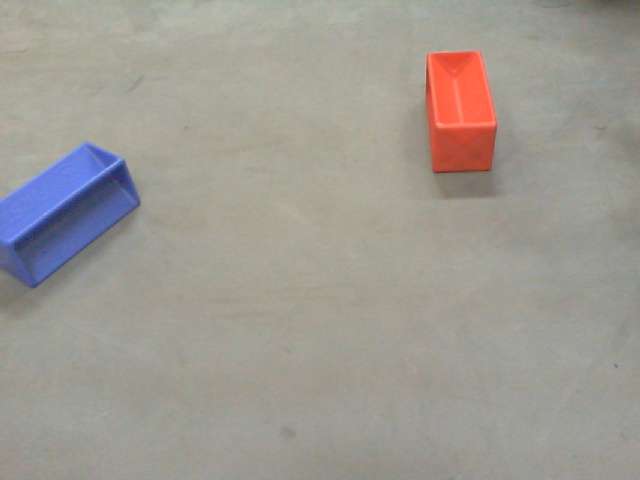BlueSample: (1, 137, 142, 299)
RedSample: (425, 50, 496, 172)
